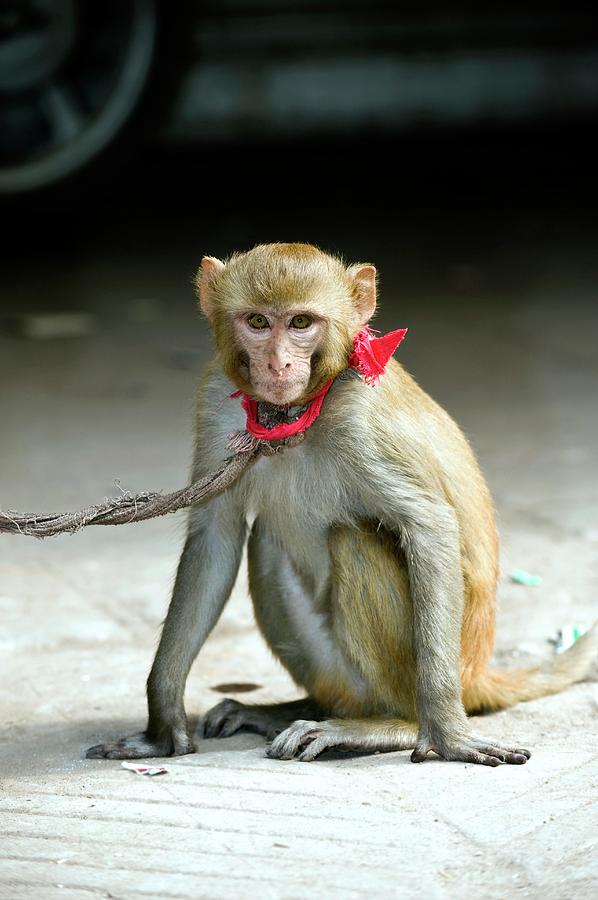monkey: (76, 225, 582, 783)
